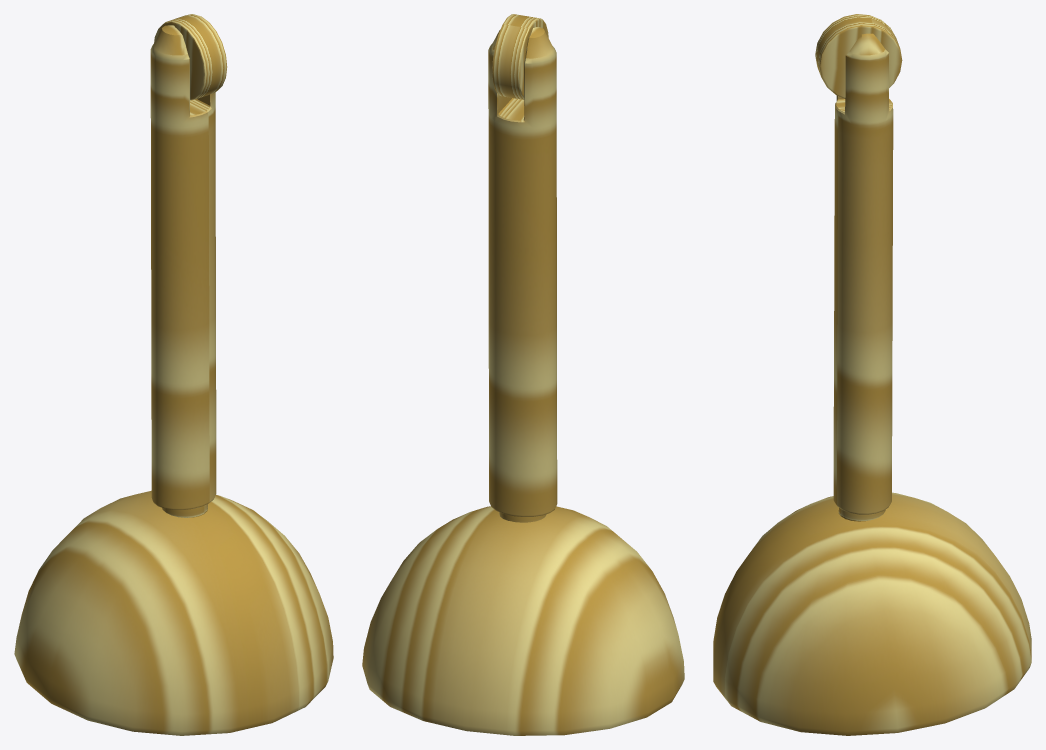
File: right foot.obj
3 renders of one model, left to right at view 1: azimuth 30°, elevation 25°; view 2: azimuth 150°, elevation 25°; view 3: azimuth 270°, elevation 25°, orthographic.
Visible parts, largest first — view 1: Blake_right_leg_right_foot, Blake_right_leg_right_leg_down, Blake_right_leg_right_knee; view 2: Blake_right_leg_right_foot, Blake_right_leg_right_leg_down, Blake_right_leg_right_knee; view 3: Blake_right_leg_right_foot, Blake_right_leg_right_leg_down, Blake_right_leg_right_knee.
Part boxes in pixels (x1,y1,x2,y2): Blake_right_leg_right_foot: (14,490,333,735); Blake_right_leg_right_leg_down: (150,25,216,509); Blake_right_leg_right_knee: (154,14,227,100); Blake_right_leg_right_foot: (362,506,684,735); Blake_right_leg_right_leg_down: (488,27,557,516); Blake_right_leg_right_knee: (492,14,548,99); Blake_right_leg_right_foot: (713,492,1031,735); Blake_right_leg_right_leg_down: (833,33,893,514); Blake_right_leg_right_knee: (815,14,902,98).
Bounding box in the file's own units: 1.95 × 4.46 × 1.94.
